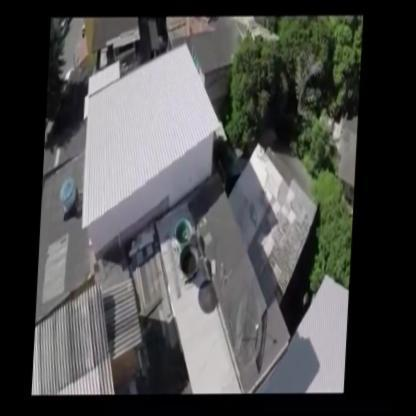agua: (183, 248, 202, 280), (178, 221, 196, 247)
